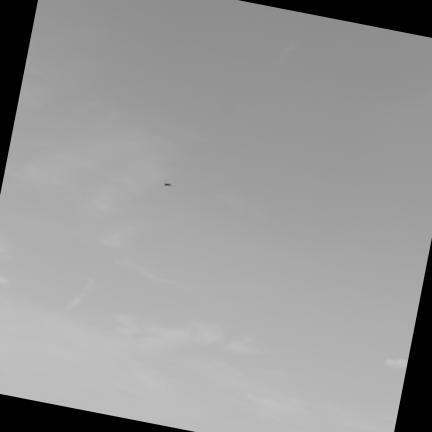Shahed: (164, 183, 171, 186)
